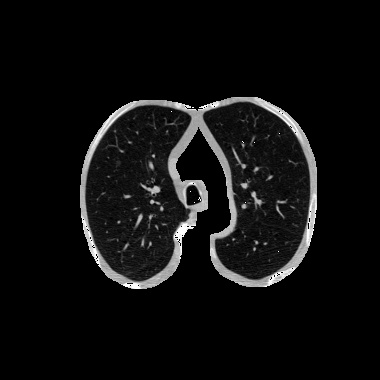PN: (115, 160, 121, 166)
